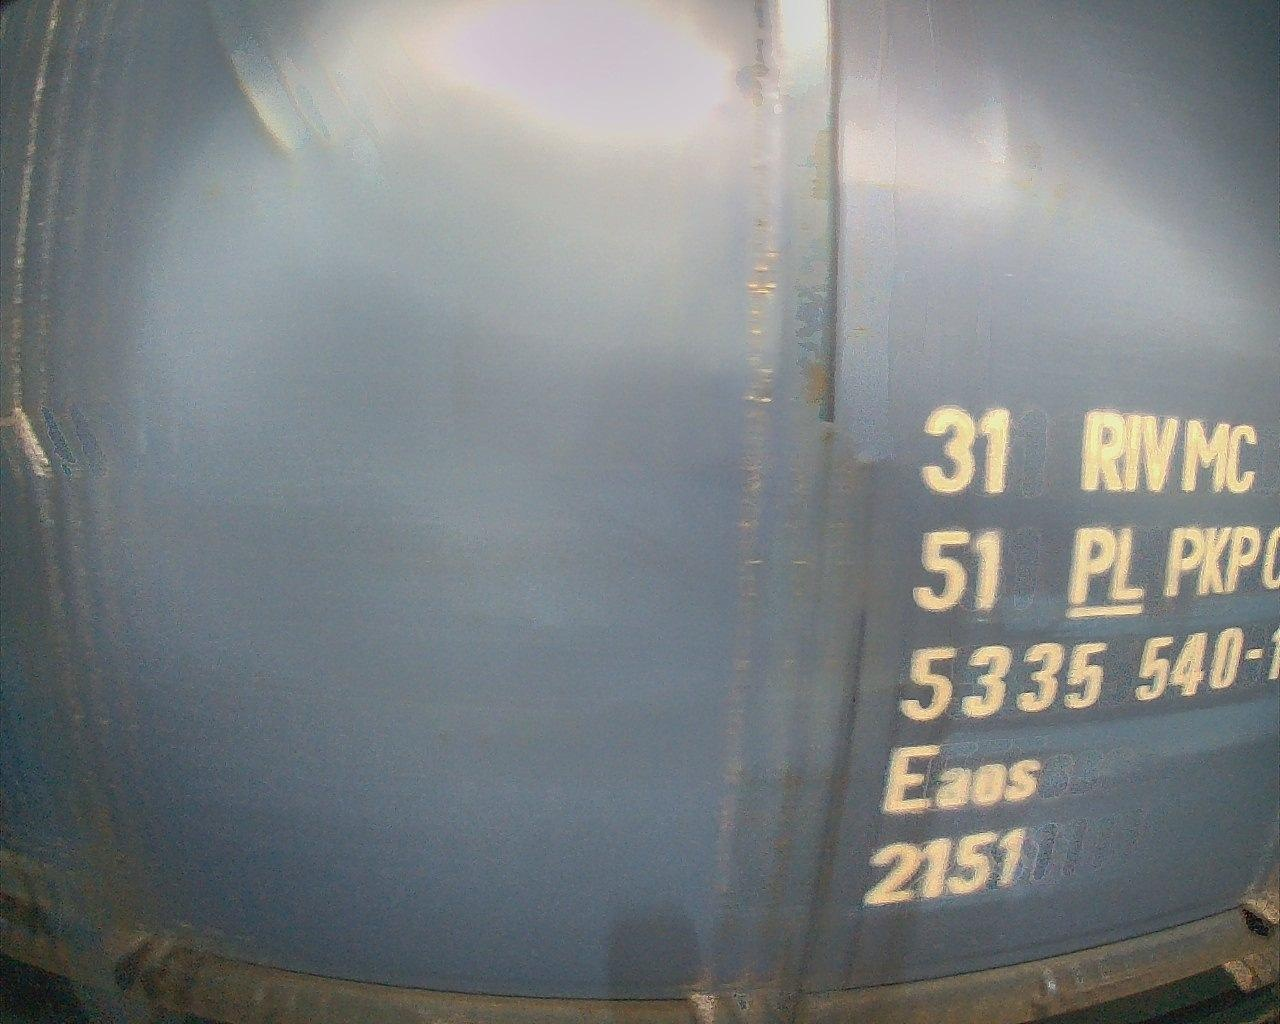UIC: (853, 397, 1280, 920)
